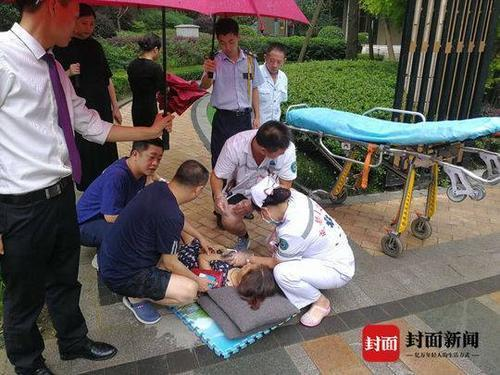Fall-Detected: (178, 236, 277, 302)
